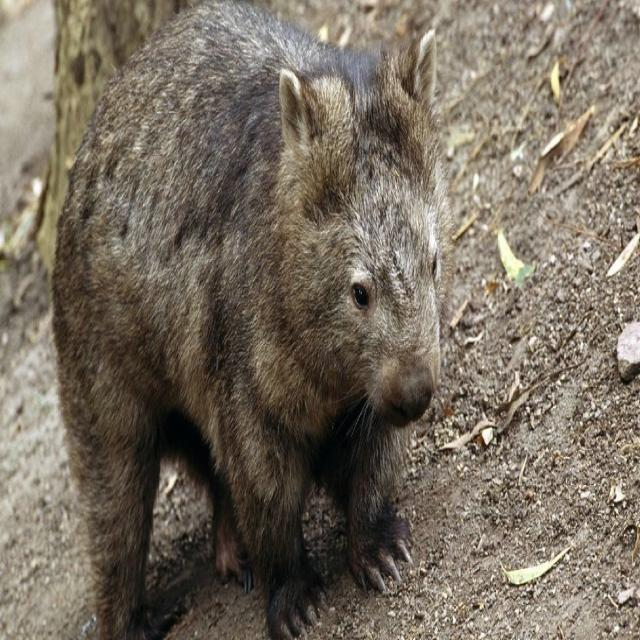wombats: (52, 0, 449, 639)
